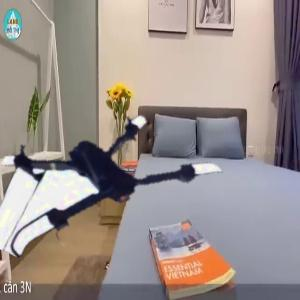drone: (3, 76, 217, 290)
